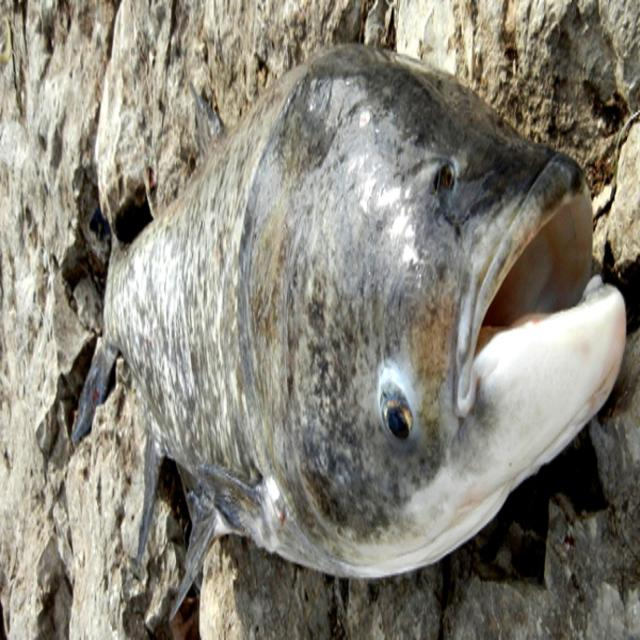Big-Head-Carp: (42, 49, 633, 620)
